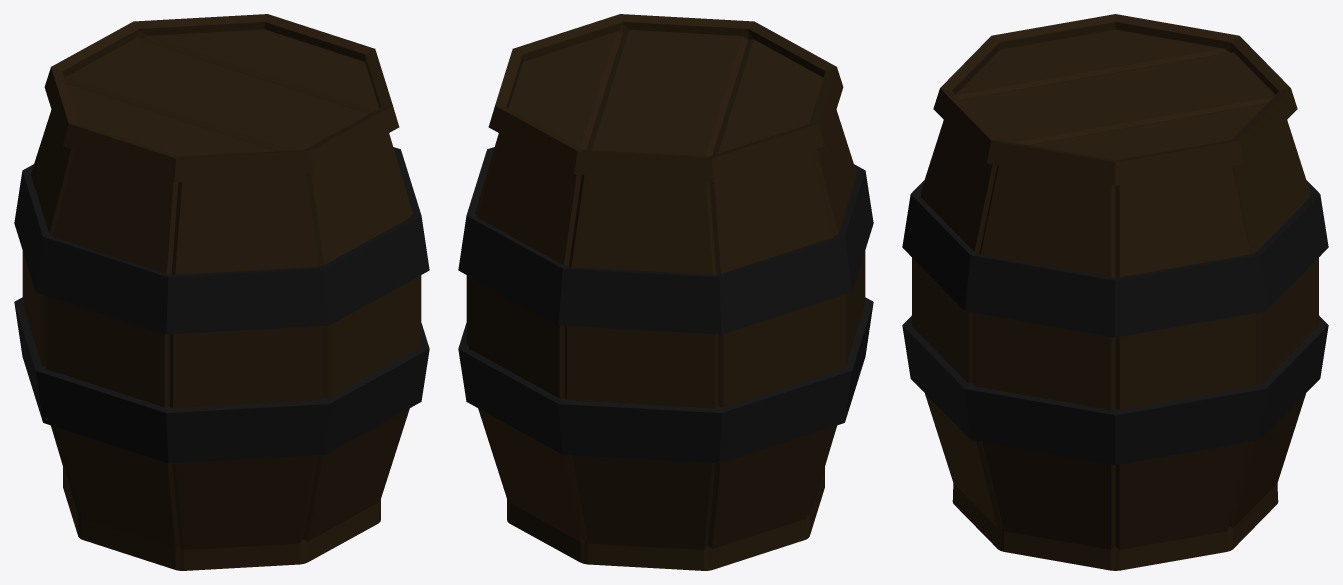
Rendered from Barrel_Light_Brown.obj.
3 views of the same model, side by side, from view 1: azimuth 30°, elevation 25°; view 2: azimuth 150°, elevation 25°; view 3: azimuth 270°, elevation 25° (orthographic).
Parts seen in each view (by area): view 1: Barrel_Light_Brown; view 2: Barrel_Light_Brown; view 3: Barrel_Light_Brown.
Part boxes in pixels (x1,y1,x2,y2): Barrel_Light_Brown: [14, 14, 429, 570]; Barrel_Light_Brown: [458, 14, 873, 570]; Barrel_Light_Brown: [902, 14, 1328, 570].
Size of the model in its own units: 2.6 by 2.79 by 2.6.
